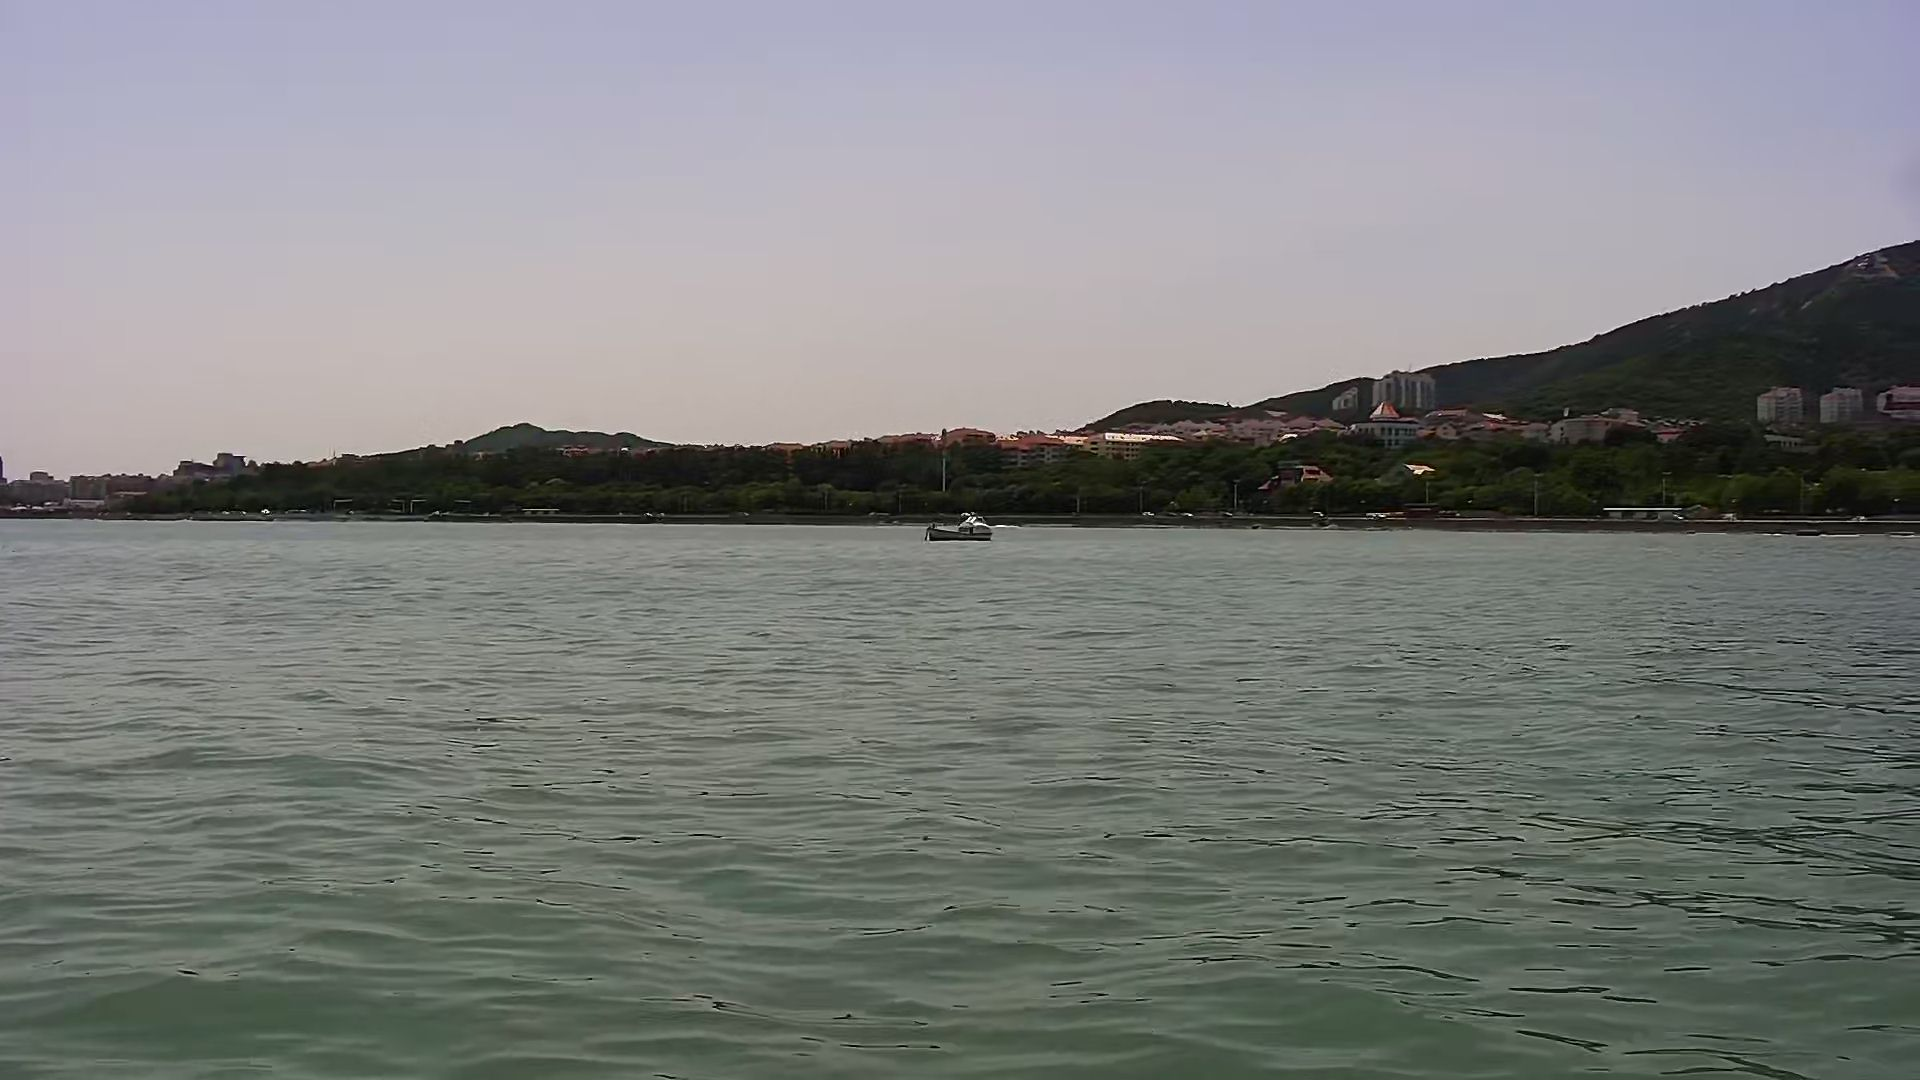ship: (923, 509, 993, 546)
